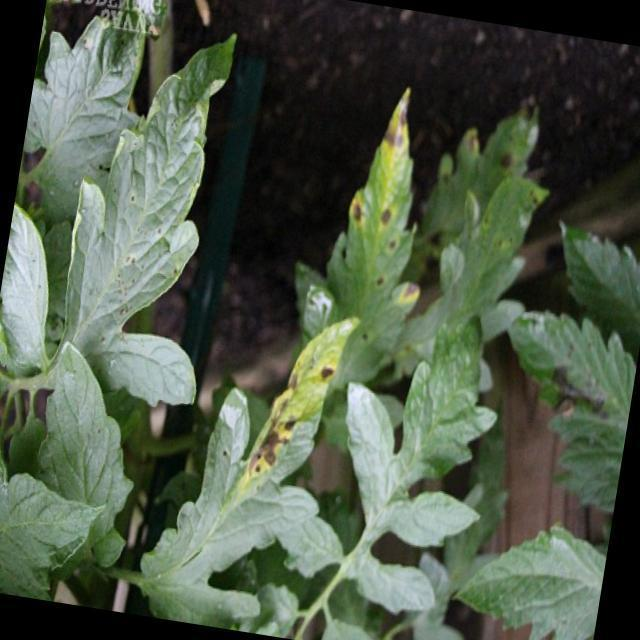Bacterial Spot: (74, 124, 202, 353), (331, 78, 446, 323), (248, 322, 344, 489), (466, 171, 554, 279), (1, 231, 55, 306)
